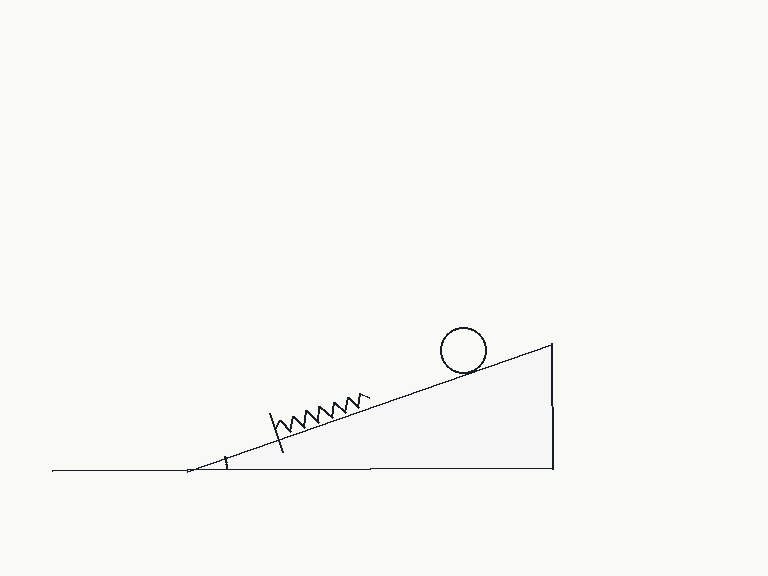ball: (438, 325, 488, 375)
ramp: (185, 342, 553, 471)
spring: (273, 390, 372, 433)
